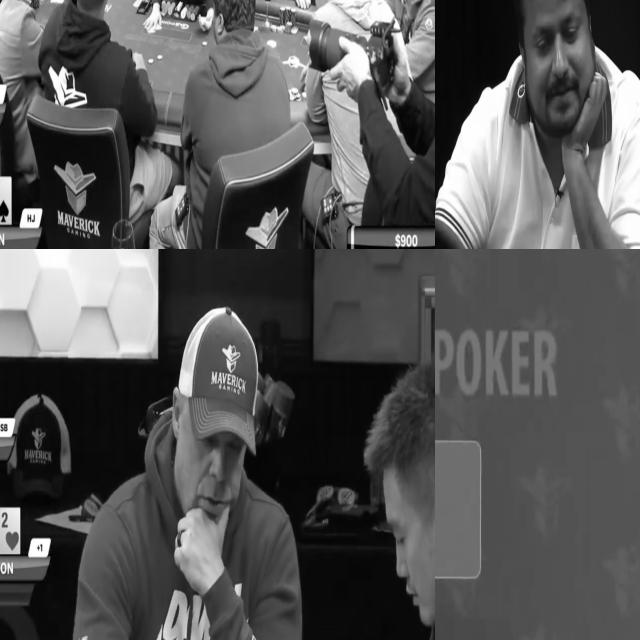2H: (0, 507, 20, 554)
7S: (0, 176, 10, 223)
